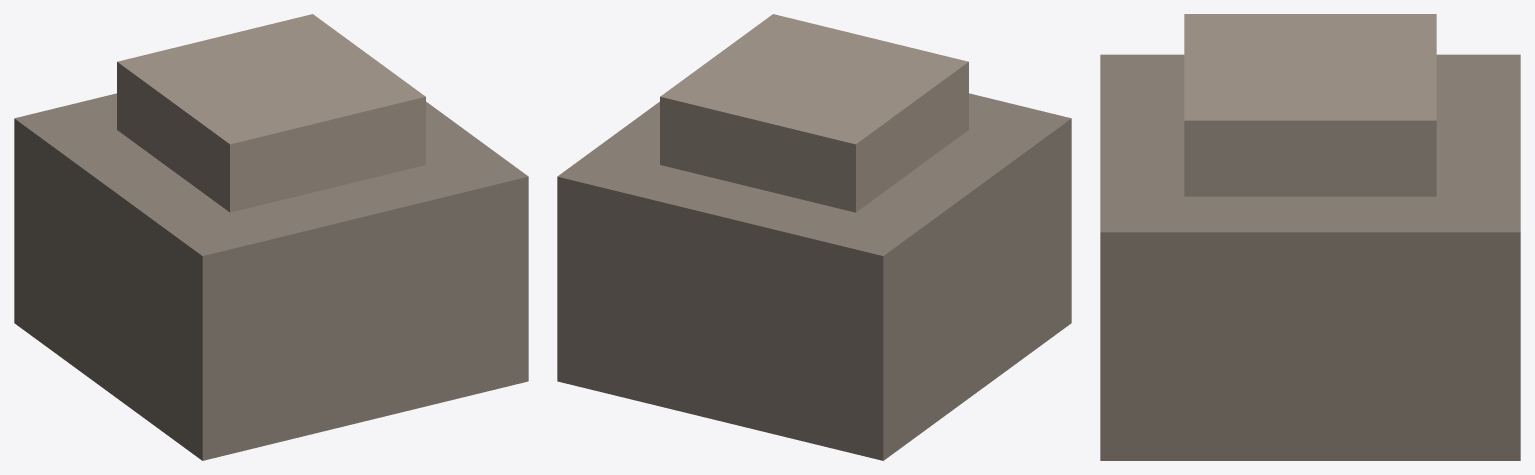
File: nido_ratas_01.glb
The picture shows the model from 3 angles, left to right: view 1: azimuth 30°, elevation 25°; view 2: azimuth 150°, elevation 25°; view 3: azimuth 270°, elevation 25°; orthographic projection. The views are drawn at different scales.
Visible parts, largest first — view 1: nido_ratas; view 2: nido_ratas; view 3: nido_ratas.
Part boxes in pixels (x1,y1,x2,y2): nido_ratas: (14, 14, 528, 460); nido_ratas: (557, 14, 1071, 460); nido_ratas: (1100, 14, 1520, 460).
Bounding box in the file's own units: 0.625 × 0.5 × 0.625.
